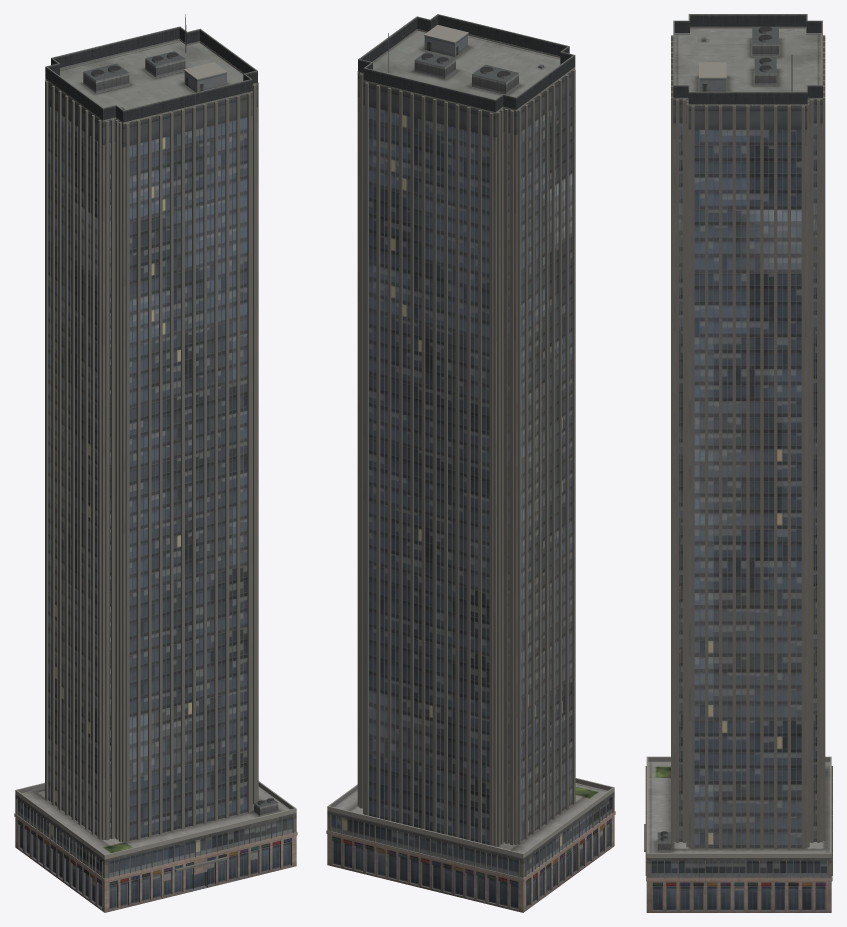
File: seattle_glasstower_c.glb
3 renders of one model, left to right at view 1: azimuth 30°, elevation 25°; view 2: azimuth 150°, elevation 25°; view 3: azimuth 270°, elevation 25°, orthographic. The views are drawn at different scales.
Parts seen in each view (by area): view 1: seattle_glasstower_c; view 2: seattle_glasstower_c; view 3: seattle_glasstower_c.
Part boxes in pixels (x1=…): seattle_glasstower_c: x1=14, y1=14, x2=297, y2=912; seattle_glasstower_c: x1=326, y1=14, x2=615, y2=912; seattle_glasstower_c: x1=644, y1=14, x2=832, y2=912.
Bounding box in the file's own units: 52.48 × 210 × 42.85.
1 material, 1 textured.
